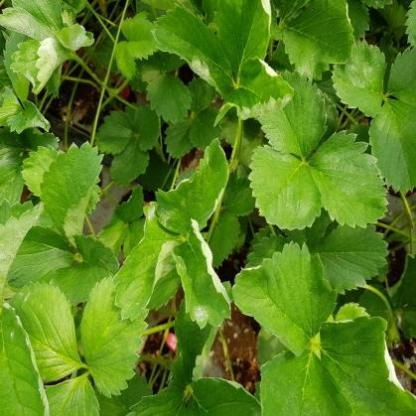Strawberry_Powdery_Mildew_Leaf: (230, 240, 340, 358), (316, 314, 416, 416), (112, 200, 184, 324), (150, 1, 235, 98), (154, 136, 228, 235), (170, 218, 232, 330), (214, 56, 295, 127), (0, 303, 49, 415), (330, 37, 389, 118), (9, 36, 74, 95), (0, 6, 55, 40), (51, 22, 94, 50)
